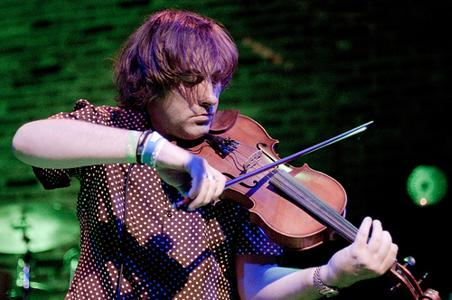person: (10, 10, 400, 300)
